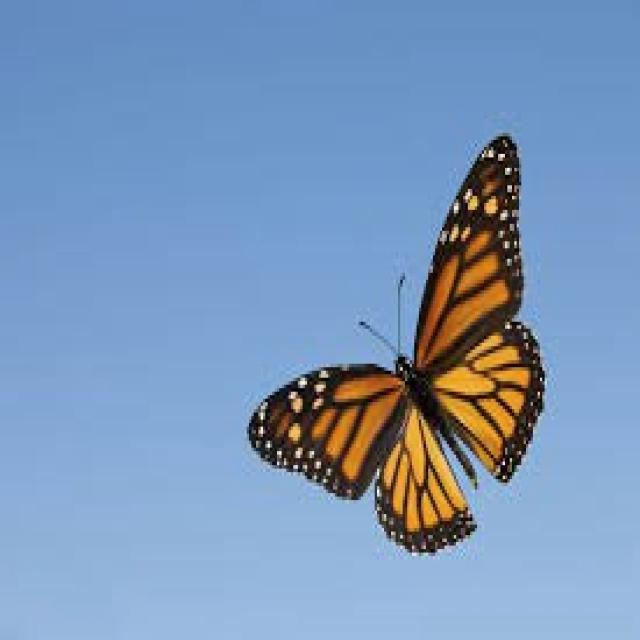butterfly: (247, 136, 542, 549)
